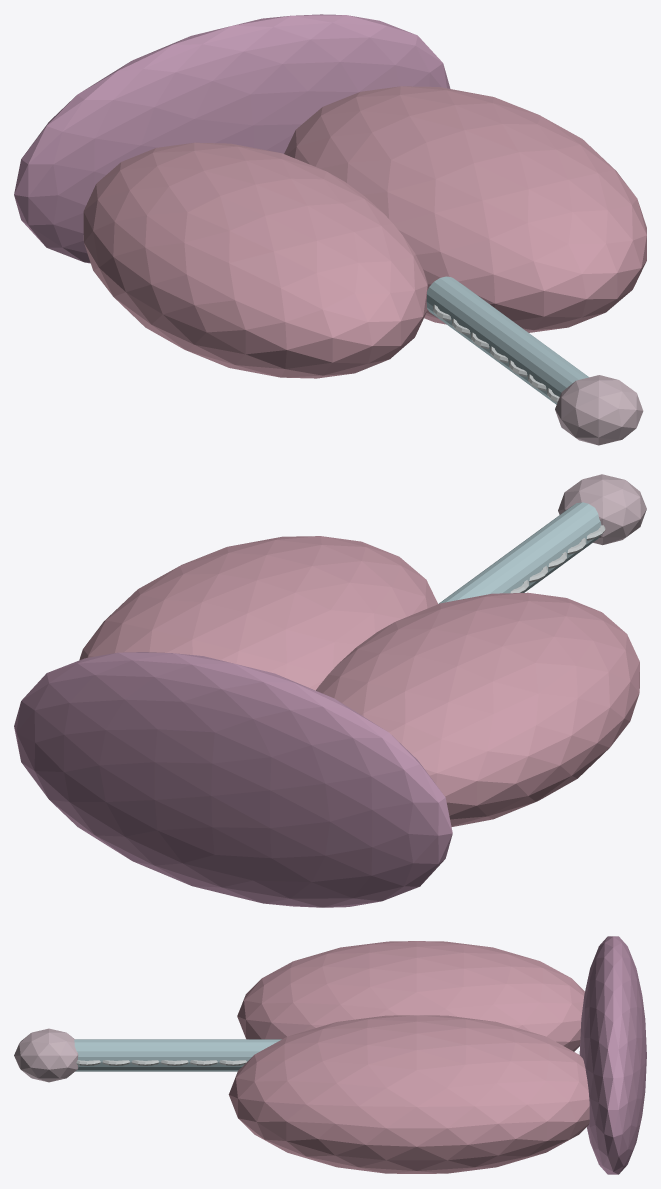
The model's file is respiratory-g3-medium.glb.
3 renders of one model, top to bottom at view 1: azimuth 30°, elevation 25°; view 2: azimuth 150°, elevation 25°; view 3: azimuth 270°, elevation 25°, orthographic. The views are drawn at different scales.
Parts seen in each view (by area): view 1: left_lung, right_lung, diaphragm, trachea, larynx_proxy; view 2: diaphragm, left_lung, right_lung, trachea, larynx_proxy; view 3: right_lung, left_lung, diaphragm, trachea, larynx_proxy.
Part boxes in pixels (bbox=[...]): left_lung: bbox=[83, 142, 427, 378]; right_lung: bbox=[284, 86, 646, 332]; diaphragm: bbox=[14, 14, 450, 263]; trachea: bbox=[426, 276, 588, 404]; larynx_proxy: bbox=[555, 375, 643, 445]; diaphragm: bbox=[14, 652, 452, 907]; left_lung: bbox=[316, 592, 639, 826]; right_lung: bbox=[79, 536, 437, 690]; trachea: bbox=[438, 502, 601, 603]; larynx_proxy: bbox=[558, 474, 646, 545]; right_lung: bbox=[228, 1015, 589, 1173]; left_lung: bbox=[237, 941, 584, 1051]; diaphragm: bbox=[579, 936, 646, 1174]; trachea: bbox=[74, 1039, 281, 1071]; larynx_proxy: bbox=[14, 1028, 78, 1082].
Bounding box in the file's own units: 3.02 × 1.4 × 4.51.
